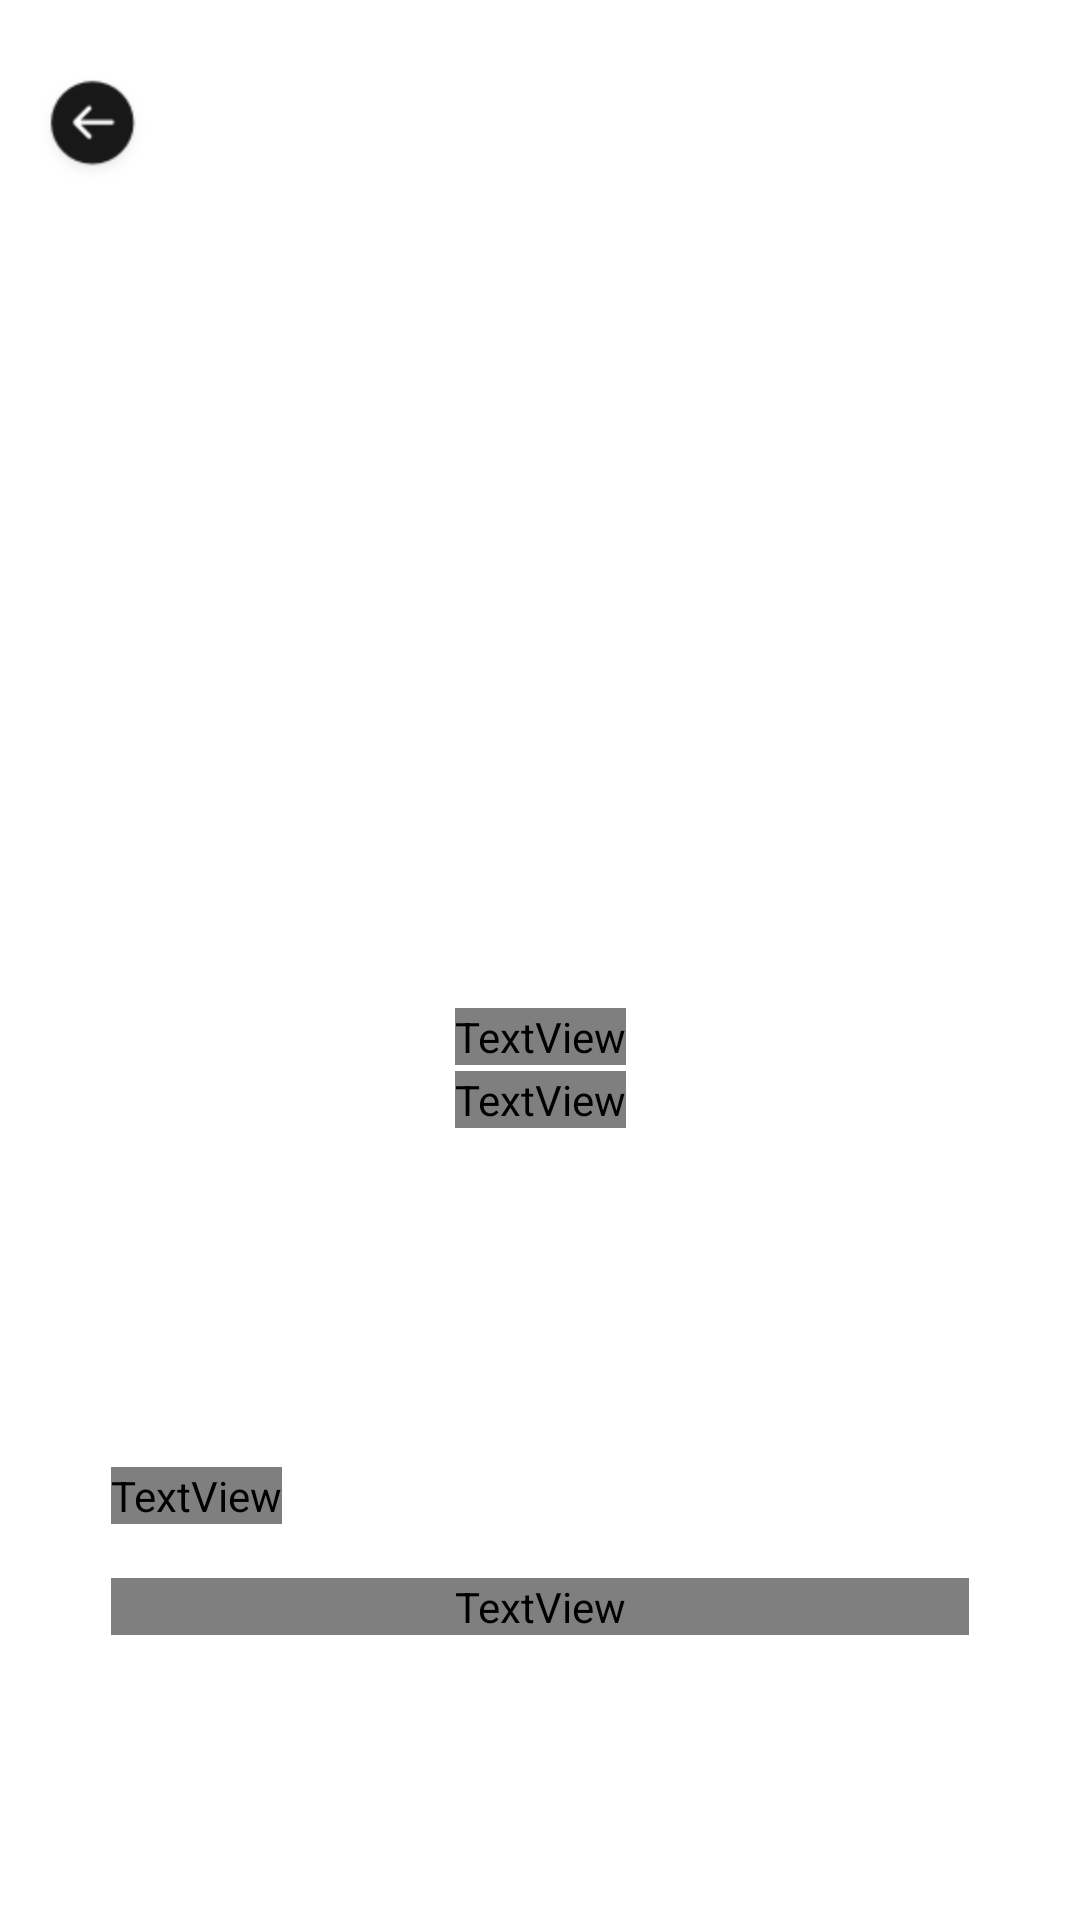

Screen size 1080px×1920px. Icon name, then its center in pixels as (x=x, y=y):
back: (x=92, y=123)
